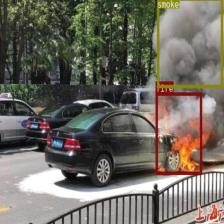fire: (155, 92, 202, 174)
smoke: (156, 0, 223, 88)
